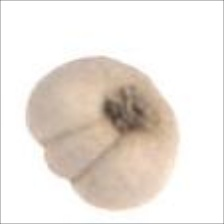L5: (36, 117, 118, 184), (100, 79, 163, 136)
L6: (20, 54, 181, 212)
